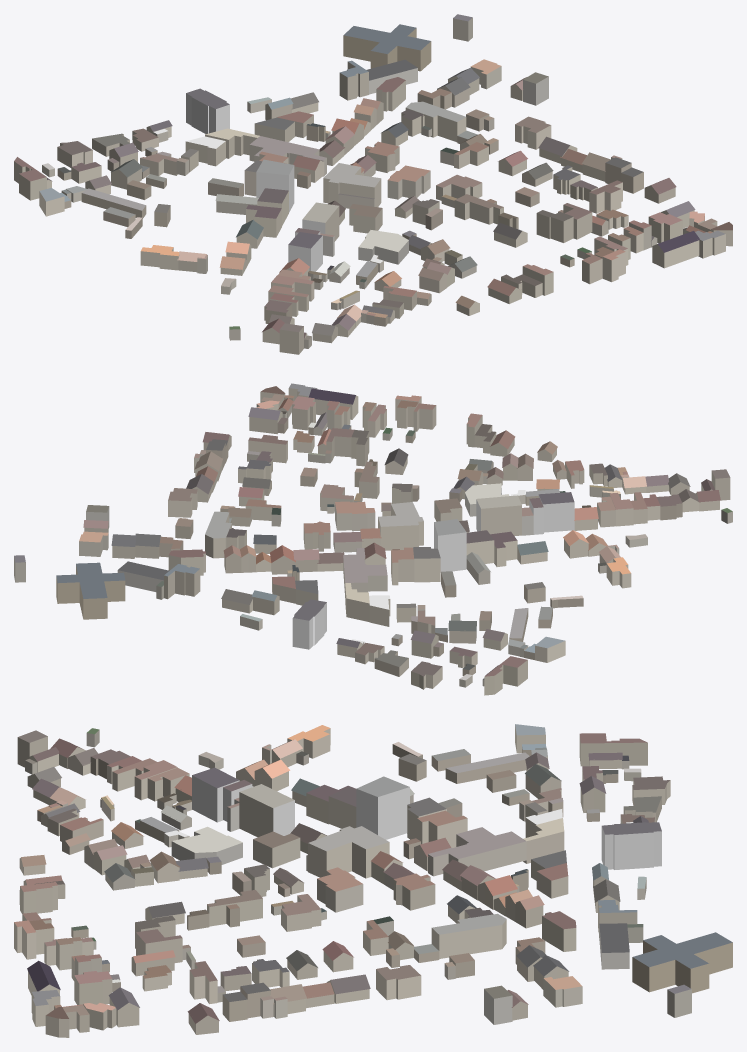
3 renders of one model, top to bottom at view 1: azimuth 30°, elevation 25°; view 2: azimuth 150°, elevation 25°; view 3: azimuth 270°, elevation 25°, orthographic. The views are drawn at different scales.
Parts seen in each view (by area): view 1: tuile; view 2: tuile; view 3: tuile.
Boxes of the visible parts, x1,y1,x2,y2 form: tuile: (14,14,732,354); tuile: (14,383,732,695); tuile: (14,724,732,1037).
Size of the model in its own units: 260 by 26.8 by 272.
